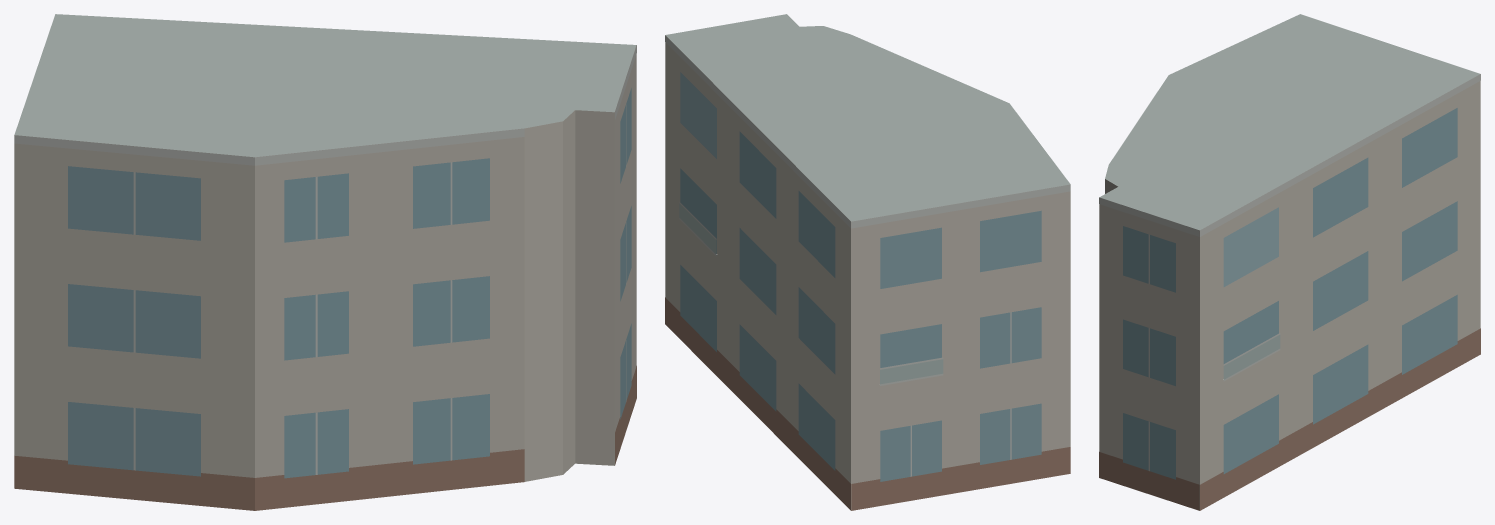
The model's file is survey-upis-32633043.glb.
The picture shows the model from 3 angles, left to right: view 1: azimuth 30°, elevation 25°; view 2: azimuth 150°, elevation 25°; view 3: azimuth 270°, elevation 25°; orthographic projection. The views are drawn at different scales.
Parts seen in each view (by area): view 1: survey-upis-32633043.tmp; view 2: survey-upis-32633043.tmp; view 3: survey-upis-32633043.tmp.
Part boxes in pixels (bbox=[...]): survey-upis-32633043.tmp: bbox=[14, 14, 636, 510]; survey-upis-32633043.tmp: bbox=[665, 14, 1070, 510]; survey-upis-32633043.tmp: bbox=[1099, 14, 1480, 510].
Bounding box in the file's own units: 16.89 × 10.2 × 12.58.
